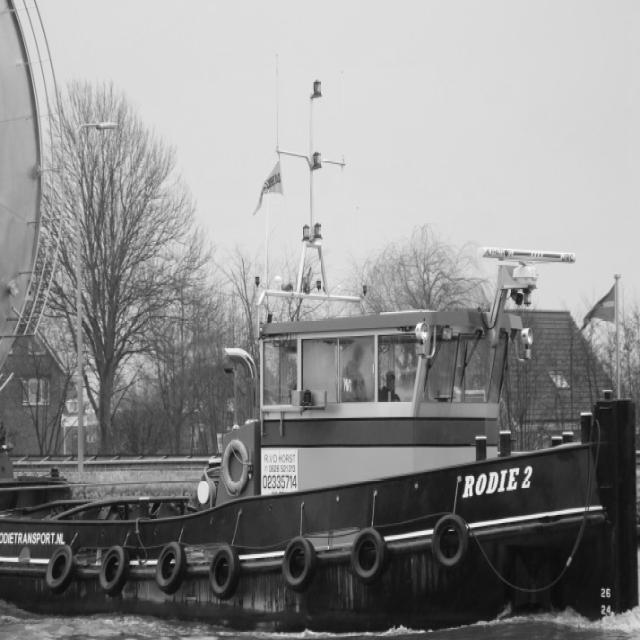tugboat: (1, 53, 640, 640)
